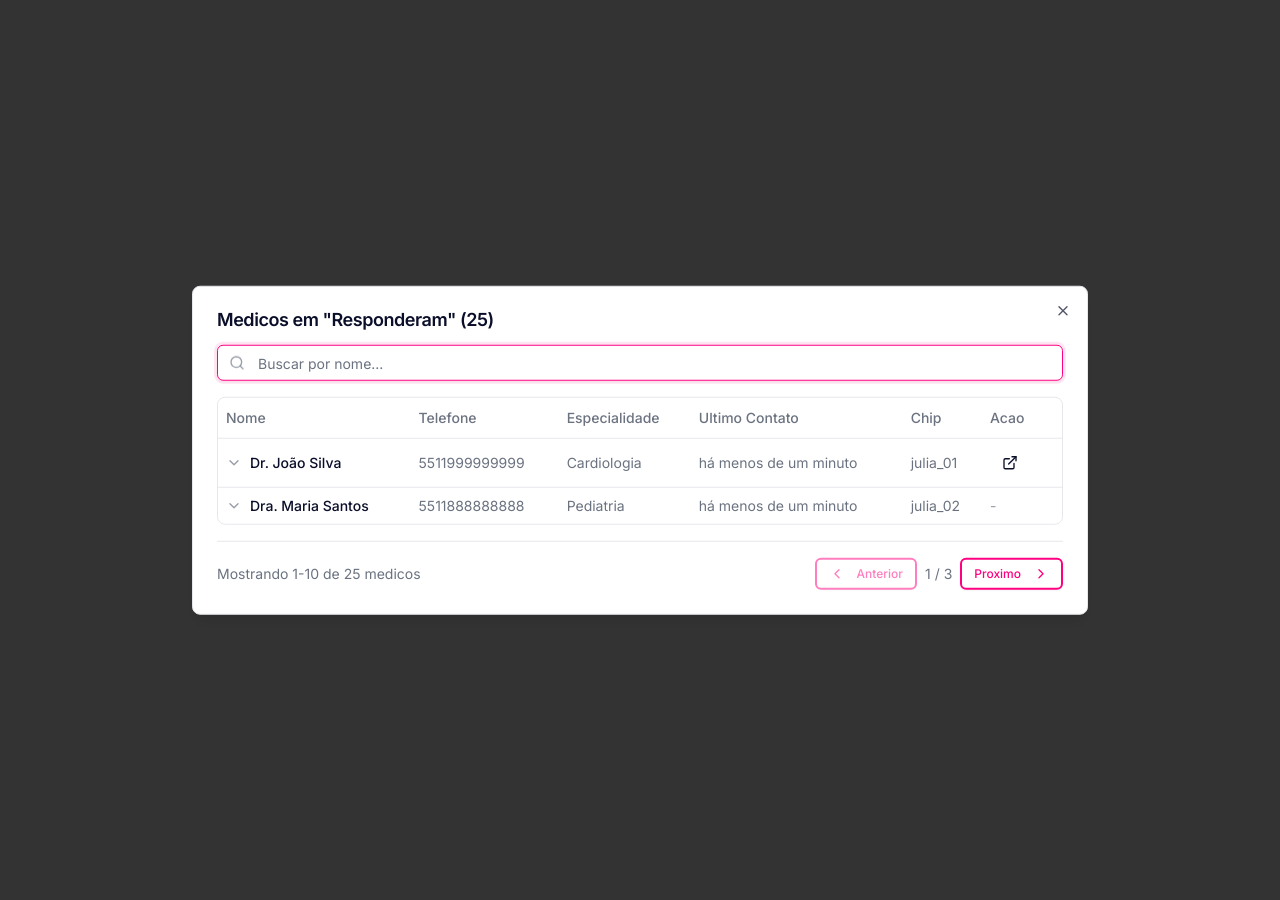
FunnelDrilldownModal › Expansão de mensagens › expande linha ao clicar para mostrar mensagens
Note: Clicar na linha para expandir
Click the text "Dr. João Silva".
click(284, 462)  # box [226,453,341,470]
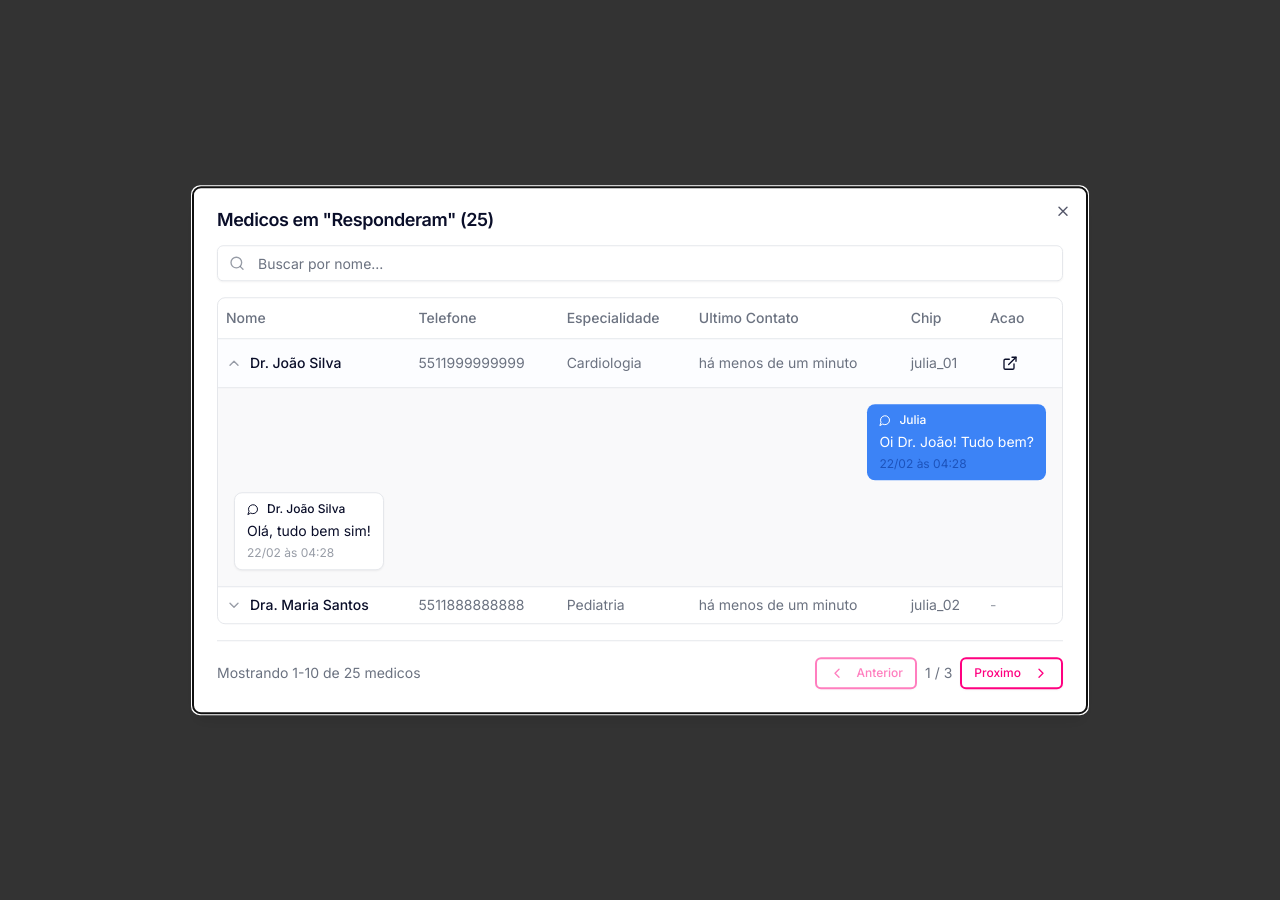
Expected: the text "Oi Dr. João! Tudo bem?" is shown, [879,432,1034,452]
Expected: the text "Olá, tudo bem sim!" is shown, [247,521,371,541]
